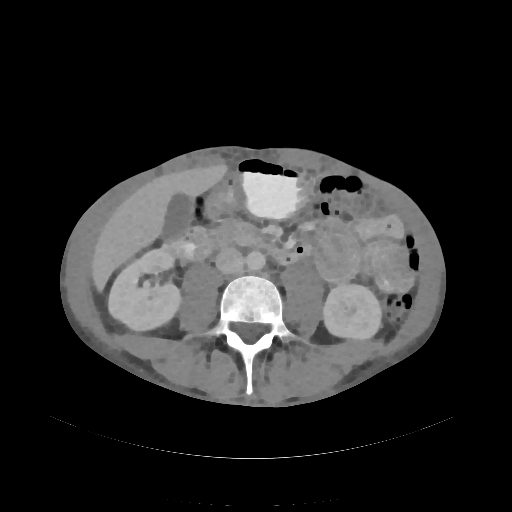Lesion: (376, 321, 386, 332)
